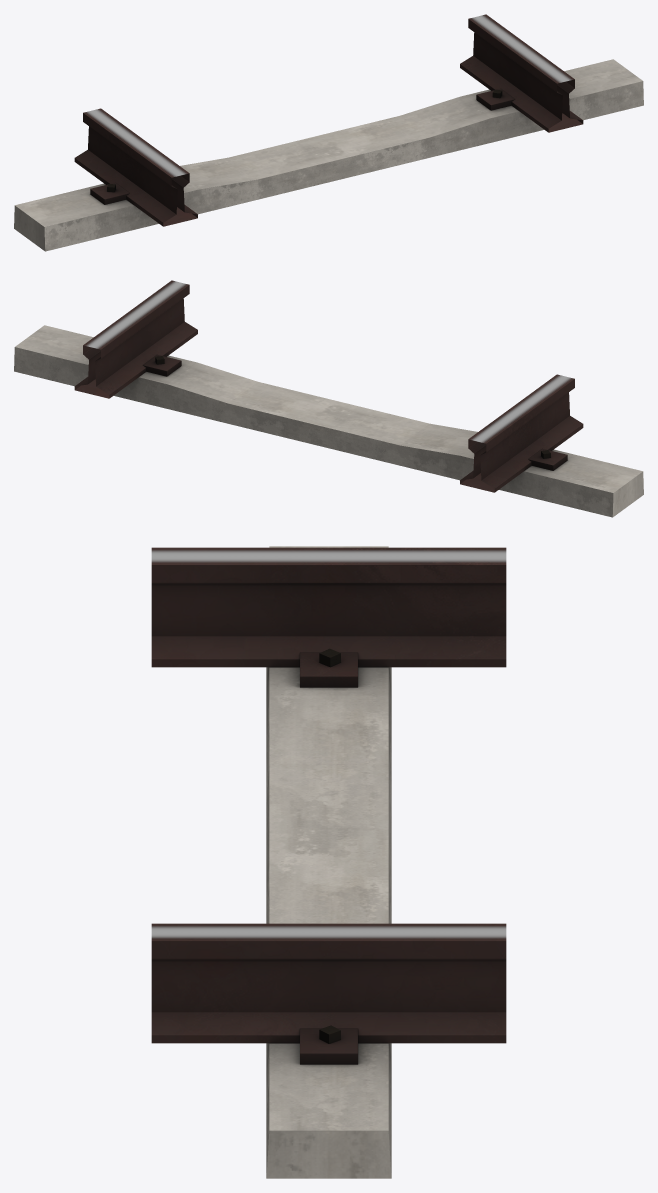
Rendered from default-rail.glb.
3 renders of one model, top to bottom at view 1: azimuth 30°, elevation 25°; view 2: azimuth 150°, elevation 25°; view 3: azimuth 270°, elevation 25°, orthographic. The views are drawn at different scales.
Visible parts, largest first — view 1: unnamed_object; view 2: unnamed_object; view 3: unnamed_object.
Boxes of the visible parts, x1,y1,x2,y2 form: unnamed_object: (14,14,643,251); unnamed_object: (14,280,643,517); unnamed_object: (151,546,506,1178).
Size of the model in its own units: 2.34 by 0.2652 by 0.6.
1 material, 1 textured.
